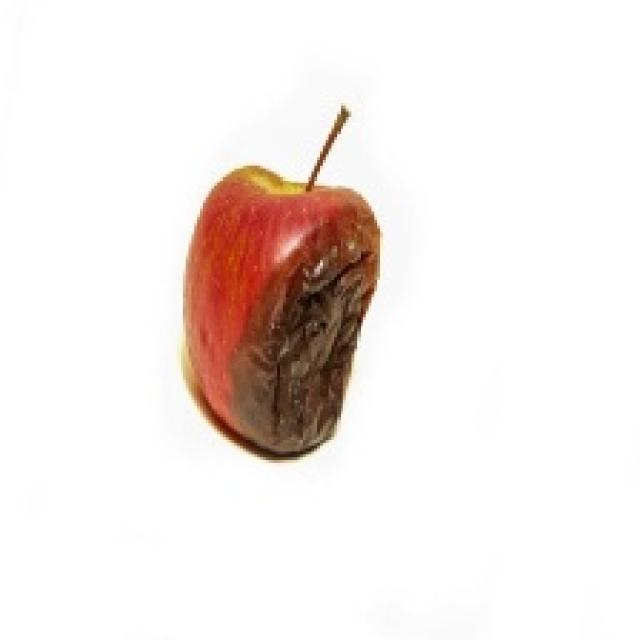rotten_apple: (190, 167, 377, 451)
